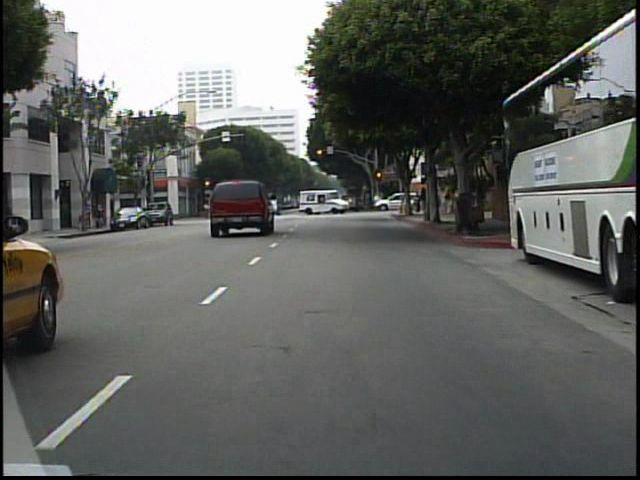person: (442, 185, 457, 217)
